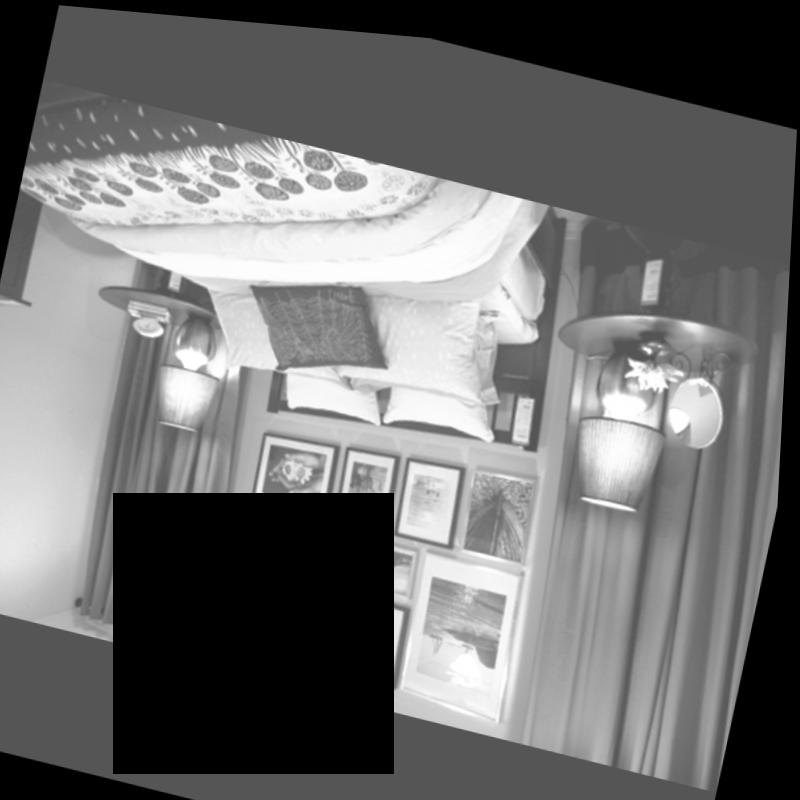pillow: (345, 269, 513, 418), (237, 251, 398, 395), (197, 264, 354, 391), (382, 367, 505, 439), (285, 359, 396, 418)
